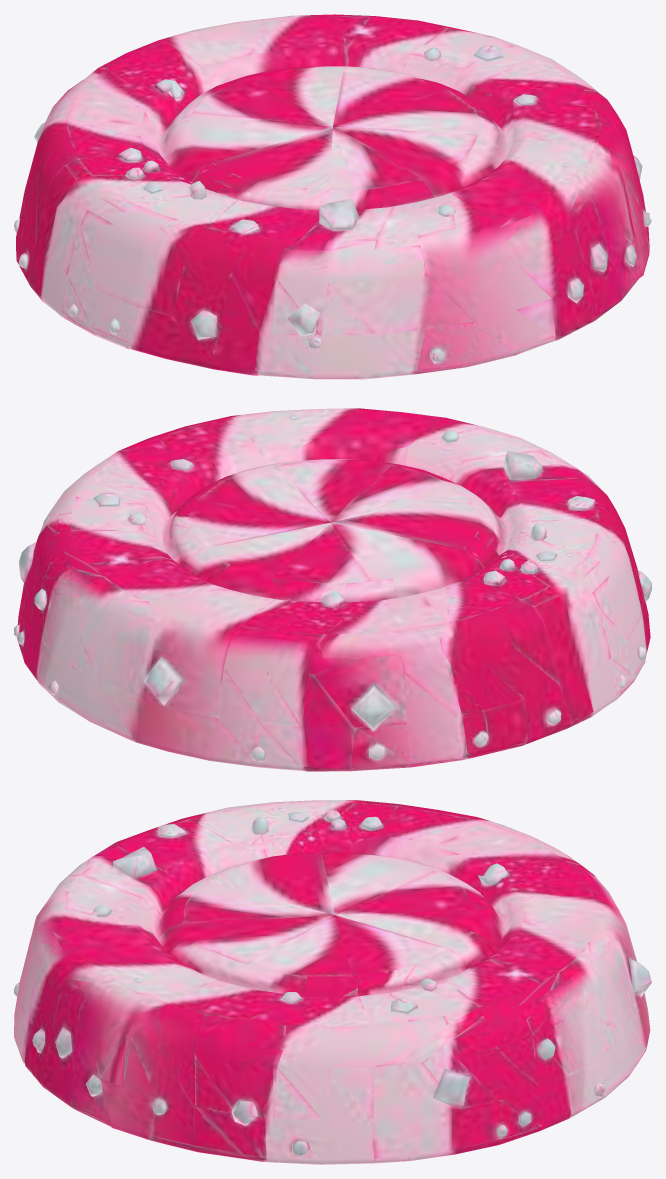
The model's file is proj_candy.glb.
The picture shows the model from 3 angles, top to bottom: view 1: azimuth 30°, elevation 25°; view 2: azimuth 150°, elevation 25°; view 3: azimuth 270°, elevation 25°; orthographic projection.
Visible parts, largest first — view 1: proj_candy; view 2: proj_candy; view 3: proj_candy.
Part boxes in pixels (x1,y1,x2,y2): proj_candy: (14,14,651,379); proj_candy: (14,408,651,771); proj_candy: (14,800,651,1164).
Size of the model in its own units: 1 by 0.2363 by 0.9907.
1 material, 1 textured.
